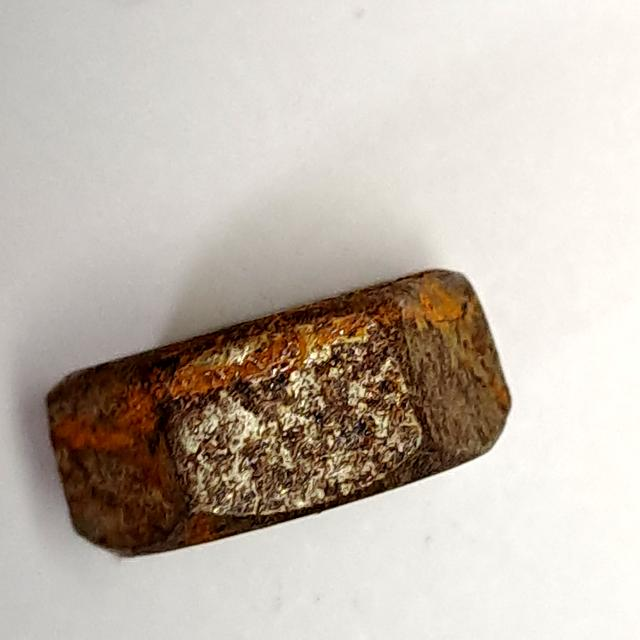Side_Rust: (32, 258, 524, 573)
